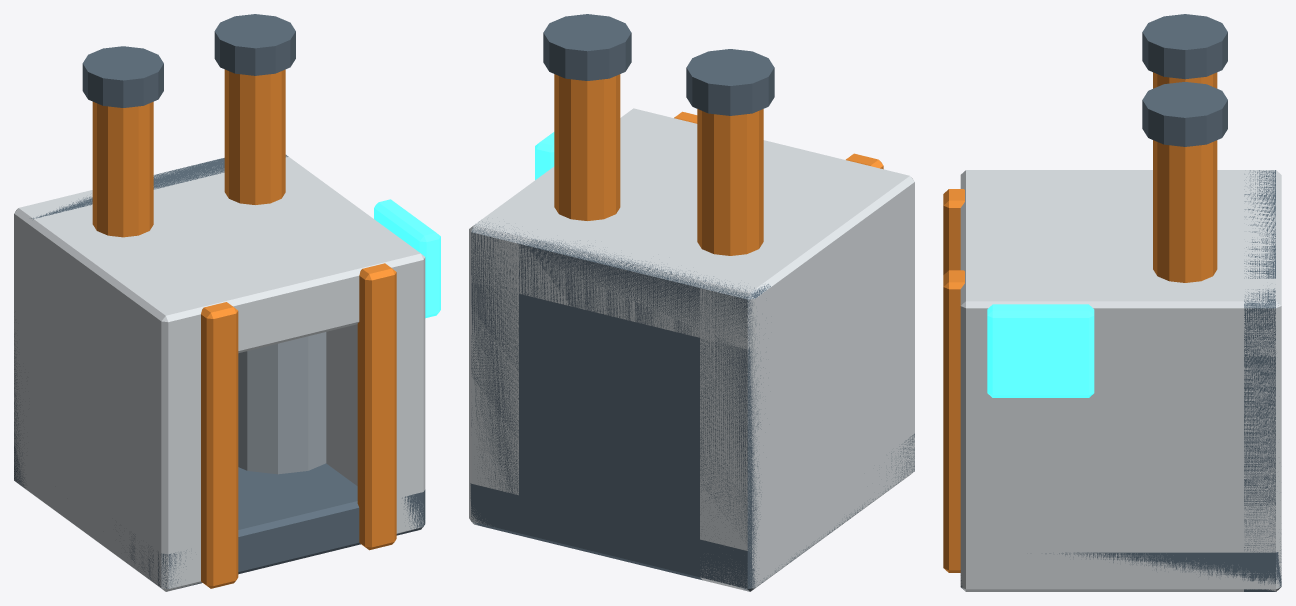
File: machine-pump.fbx
3 renders of one model, left to right at view 1: azimuth 30°, elevation 25°; view 2: azimuth 150°, elevation 25°; view 3: azimuth 270°, elevation 25°, orthographic. The views are drawn at different scales.
Visible parts, largest first — view 1: machine-pump_Machine column.002, machine-pump_Crown.001, machine-pump_Machine column.003, machine-pump_Skid.001, machine-pump_Process vessel.003, machine-pump_Orange spine.003, machine-pump_Orange spine.002, machine-pump_Service stack.003, machine-pump_Service stack.002, machine-pump_Stack cap.002, machine-pump_Stack cap.003, machine-pump_Operator display.001 (+1 smaller); view 2: machine-pump_Backplane.001, machine-pump_Machine column.002, machine-pump_Crown.001, machine-pump_Machine column.003, machine-pump_Skid.001, machine-pump_Service stack.002, machine-pump_Service stack.003, machine-pump_Stack cap.002, machine-pump_Stack cap.003, machine-pump_Operator display.001; view 3: machine-pump_Machine column.003, machine-pump_Crown.001, machine-pump_Operator display.001, machine-pump_Backplane.001, machine-pump_Service stack.003, machine-pump_Orange spine.003, machine-pump_Stack cap.002, machine-pump_Stack cap.003, machine-pump_Skid.001, machine-pump_Orange spine.002, machine-pump_Machine column.002, machine-pump_Service stack.002.
Boxes of the visible parts, x1,y1,x2,y2 form: machine-pump_Machine column.002: (14,209,208,591); machine-pump_Crown.001: (17,156,425,368); machine-pump_Machine column.003: (284,157,425,533); machine-pump_Skid.001: (119,463,425,588); machine-pump_Process vessel.003: (238,332,326,474); machine-pump_Orange spine.003: (357,263,396,550); machine-pump_Orange spine.002: (201,302,238,588); machine-pump_Service stack.003: (224,69,285,204); machine-pump_Service stack.002: (92,102,153,237); machine-pump_Stack cap.002: (82,46,163,107); machine-pump_Stack cap.003: (214,14,295,75); machine-pump_Operator display.001: (374,199,440,318); machine-pump_Backplane.001: (471,221,770,591); machine-pump_Machine column.002: (700,181,914,591); machine-pump_Crown.001: (469,108,914,349); machine-pump_Machine column.003: (469,146,627,525); machine-pump_Skid.001: (470,433,914,591); machine-pump_Service stack.002: (697,109,763,255); machine-pump_Service stack.003: (554,74,620,220); machine-pump_Stack cap.002: (686,49,774,115); machine-pump_Stack cap.003: (543,14,631,80); machine-pump_Operator display.001: (535,132,554,179); machine-pump_Machine column.003: (960,278,1281,591); machine-pump_Crown.001: (960,170,1281,356); machine-pump_Operator display.001: (987,304,1094,397); machine-pump_Backplane.001: (1244,170,1281,591); machine-pump_Service stack.003: (1153,140,1217,282); machine-pump_Orange spine.003: (943,270,964,572); machine-pump_Stack cap.002: (1142,14,1227,79); machine-pump_Stack cap.003: (1142,82,1227,146); machine-pump_Skid.001: (960,552,1281,589); machine-pump_Orange spine.002: (943,189,964,274); machine-pump_Machine column.002: (960,170,1281,192); machine-pump_Service stack.002: (1153,72,1217,88).
Bounding box in the file's own units: 166 × 238 × 158.
